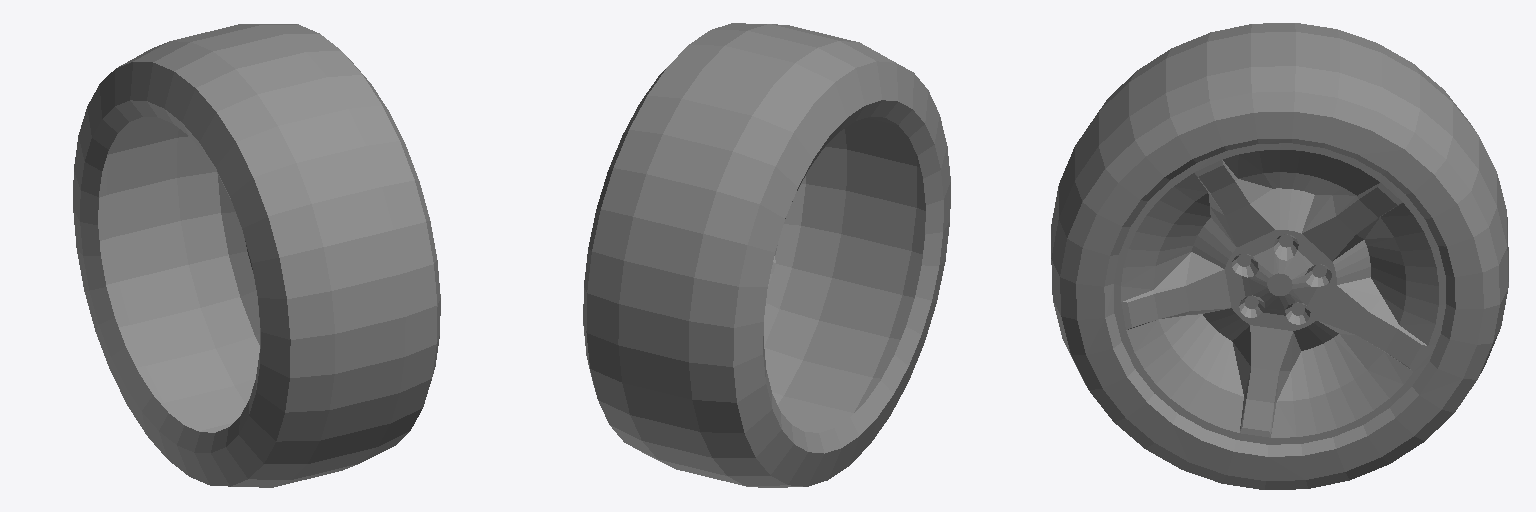
File: Wheel111.obj
3 views of the same model, side by side, from view 1: azimuth 30°, elevation 25°; view 2: azimuth 150°, elevation 25°; view 3: azimuth 270°, elevation 25° (orthographic).
Parts seen in each view (by area): view 1: BTechFix; view 2: BTechFix; view 3: BTechFix.
Boxes of the visible parts, x1=… form: BTechFix: x1=73, y1=24, x2=440, y2=487; BTechFix: x1=583, y1=23, x2=950, y2=487; BTechFix: x1=1051, y1=23, x2=1508, y2=489.
Size of the model in its own units: 35.25 by 81.6 by 81.6.